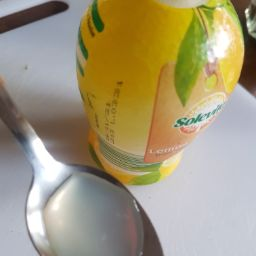Lime juice: (75, 5, 239, 182), (22, 161, 148, 256)
